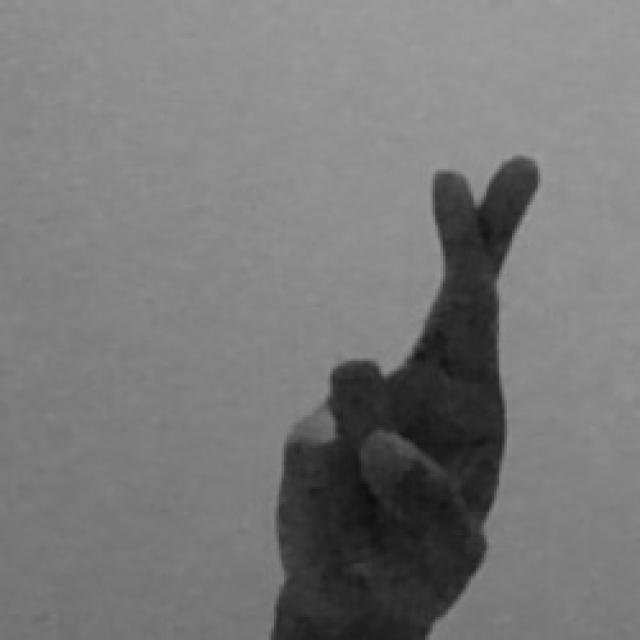R: (266, 146, 546, 640)
